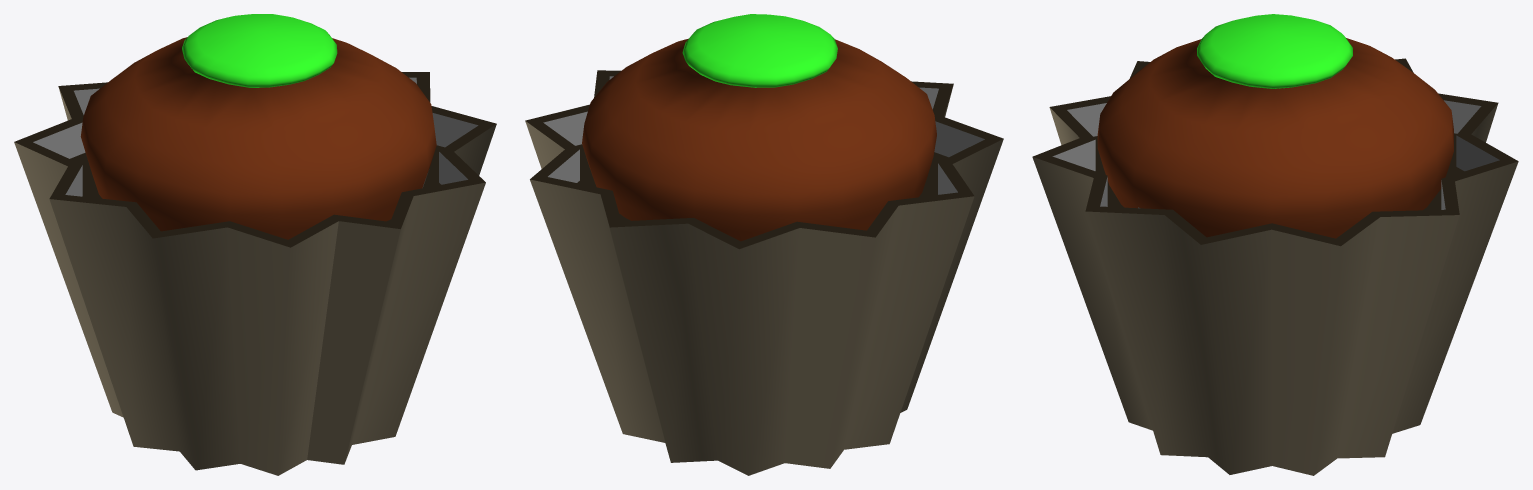
File: cub cake green.FBX
3 views of the same model, side by side, from view 1: azimuth 30°, elevation 25°; view 2: azimuth 150°, elevation 25°; view 3: azimuth 270°, elevation 25° (orthographic).
Visible parts, largest first — view 1: GREEN CUBCAKE; view 2: GREEN CUBCAKE; view 3: GREEN CUBCAKE.
Boxes of the visible parts, box(x1,y1,x2,y2) form: GREEN CUBCAKE: box(14, 14, 496, 475); GREEN CUBCAKE: box(525, 14, 1003, 475); GREEN CUBCAKE: box(1032, 14, 1518, 475).
Size of the model in its own units: 64.28 by 56.63 by 64.95.
